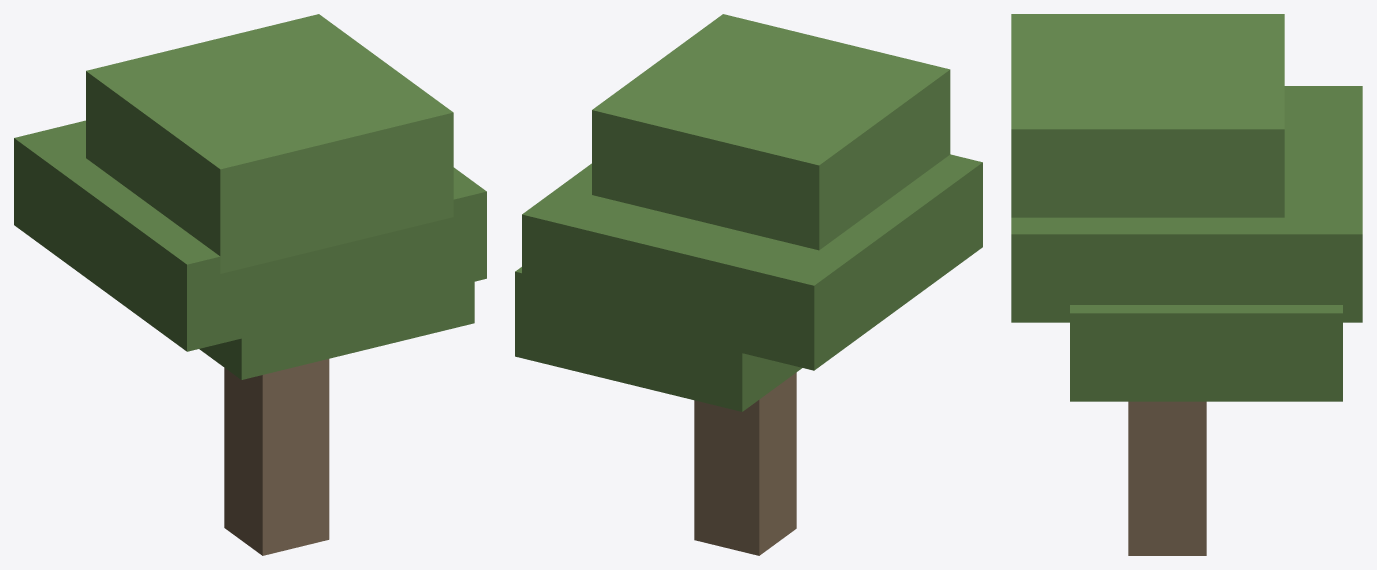
Rendered from roble_grande_06.glb.
3 renders of one model, left to right at view 1: azimuth 30°, elevation 25°; view 2: azimuth 150°, elevation 25°; view 3: azimuth 270°, elevation 25°, orthographic. The views are drawn at different scales.
Parts seen in each view (by area): view 1: roble_grande_06; view 2: roble_grande_06; view 3: roble_grande_06.
Boxes of the visible parts, x1,y1,x2,y2 form: roble_grande_06: (14, 14, 486, 555); roble_grande_06: (515, 14, 982, 555); roble_grande_06: (1011, 14, 1362, 555).
Size of the model in its own units: 1.9 by 2.6 by 1.8.
